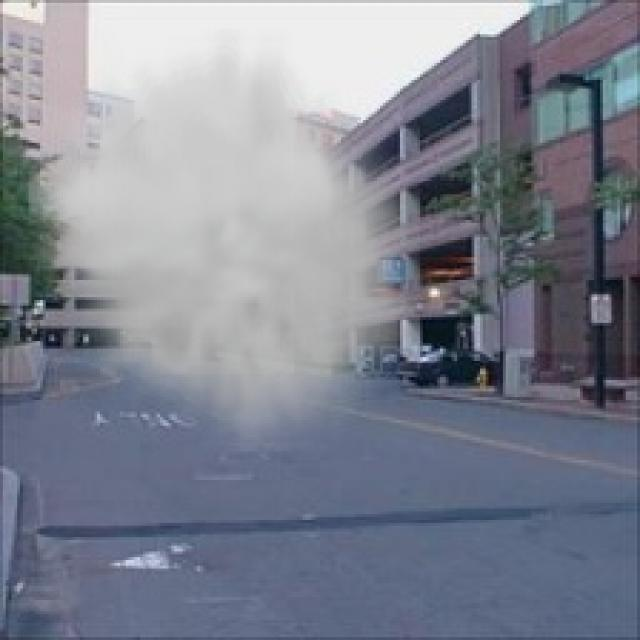smoke: (29, 29, 420, 452)
